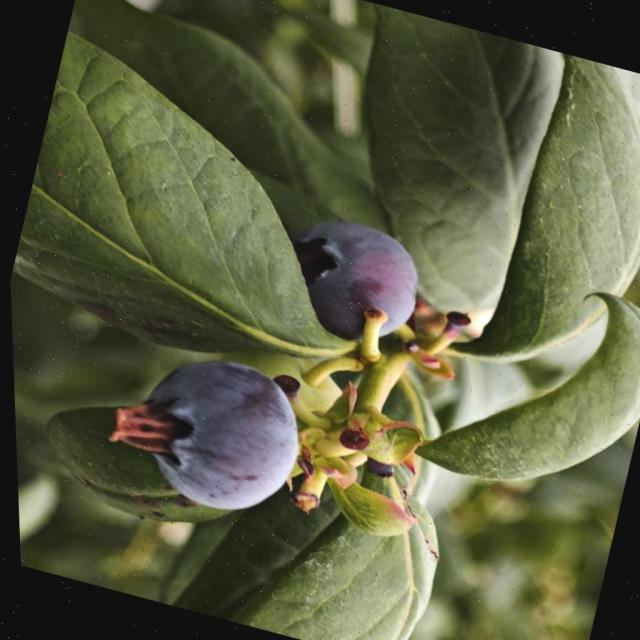RipeBlueBerry: (120, 341, 316, 528), (270, 207, 436, 358)
